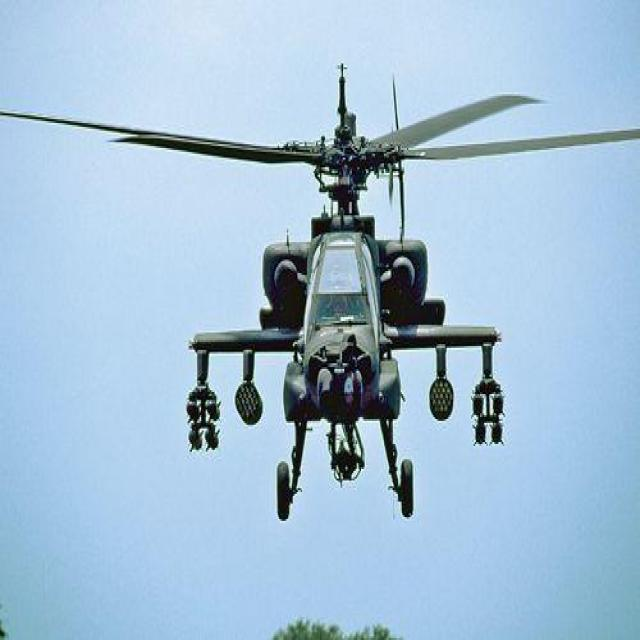MIL_HELO: (0, 51, 640, 542)
